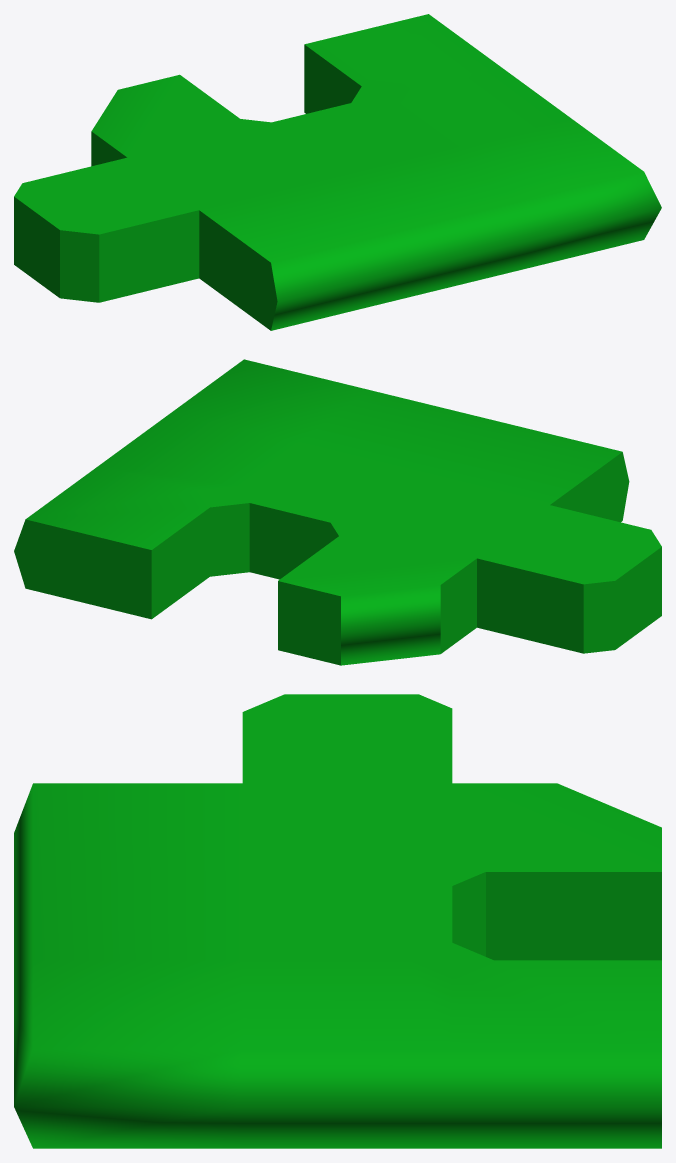
The model's file is green.fbx.
3 views of the same model, one above another, from view 1: azimuth 30°, elevation 25°; view 2: azimuth 150°, elevation 25°; view 3: azimuth 270°, elevation 25° (orthographic). The views are drawn at different scales.
Visible parts, largest first — view 1: pCube3; view 2: pCube3; view 3: pCube3.
Boxes of the visible parts, x1,y1,x2,y2 form: pCube3: [14, 14, 661, 330]; pCube3: [14, 359, 661, 665]; pCube3: [14, 694, 661, 1148].
Size of the model in its own units: 8.33 by 1.07 by 6.29.
